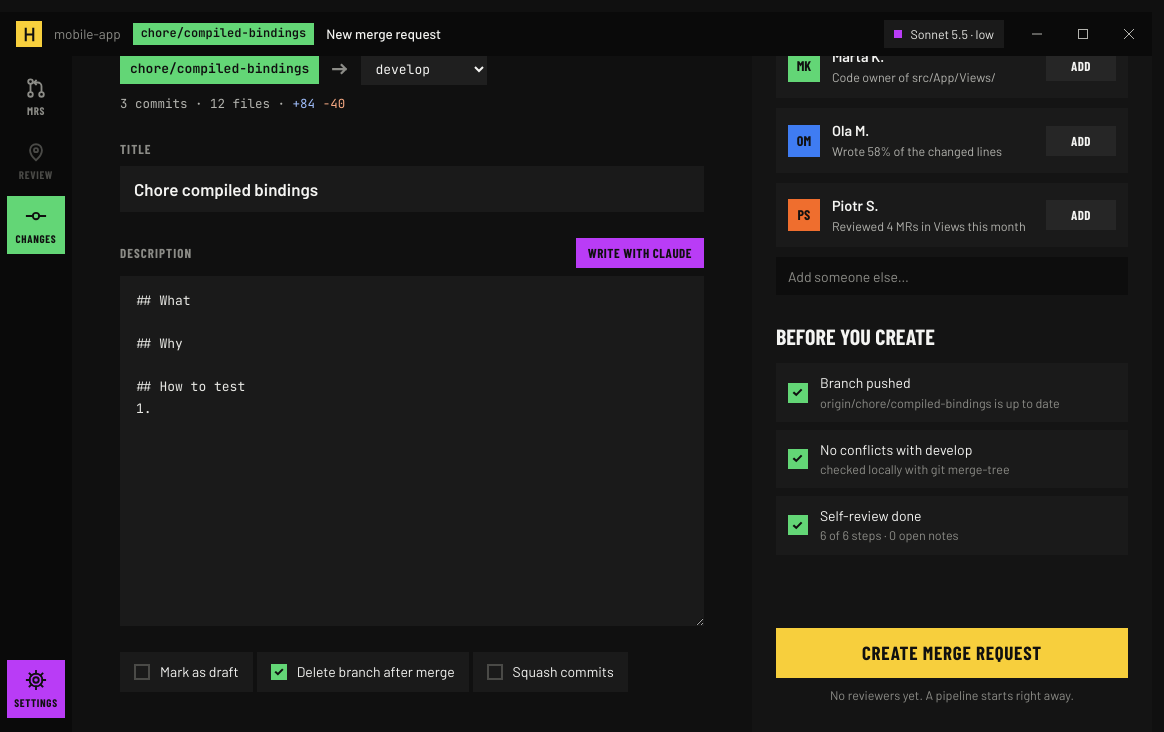
Test: S-11 created (F-27.6) › F-27.6 a draft MR shows the title GitLab stored, with Draft:
The width and height of the screenshot is (1164, 732).
(page scrolled)
expect the field labelled "Title" is not empty: met, box x1=120 y1=166 x2=704 y2=212
Click the button "Create merge request".
click(952, 653)  # box x1=776 y1=628 x2=1128 y2=678
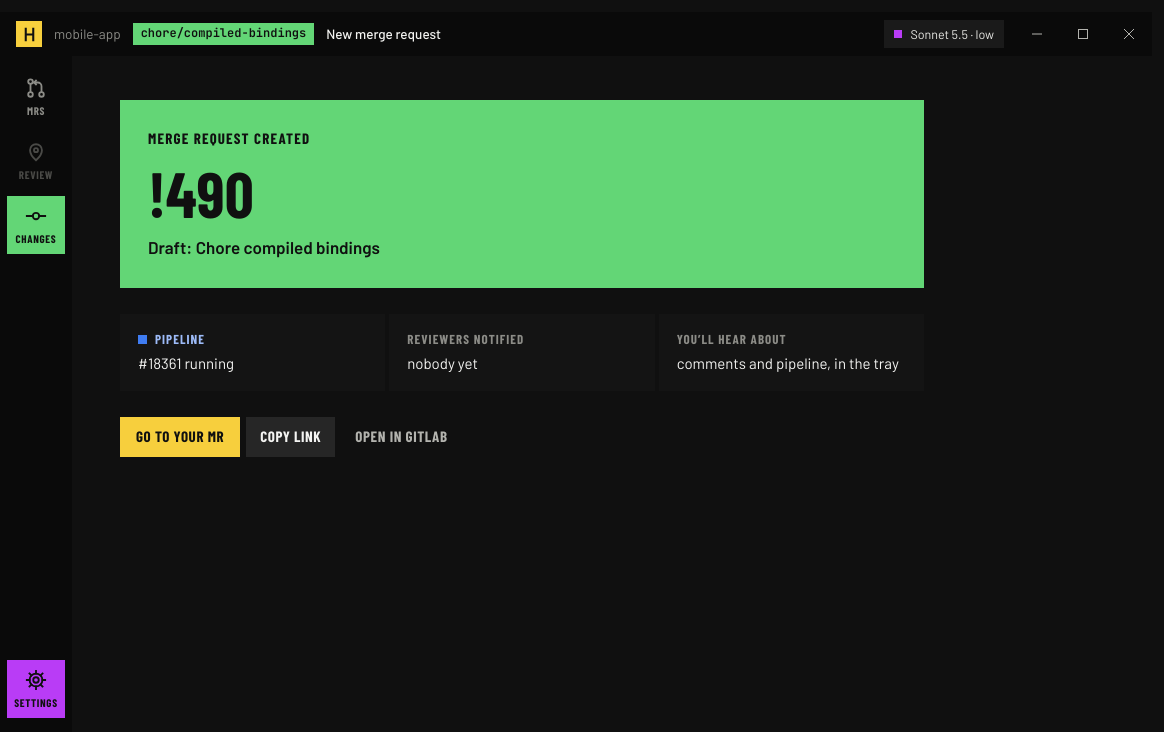
expect the text "!490" is shown: met, box x1=148 y1=154 x2=254 y2=231
expect the text "Draft: Chore compiled bindings" is shown: met, box x1=148 y1=237 x2=380 y2=257
